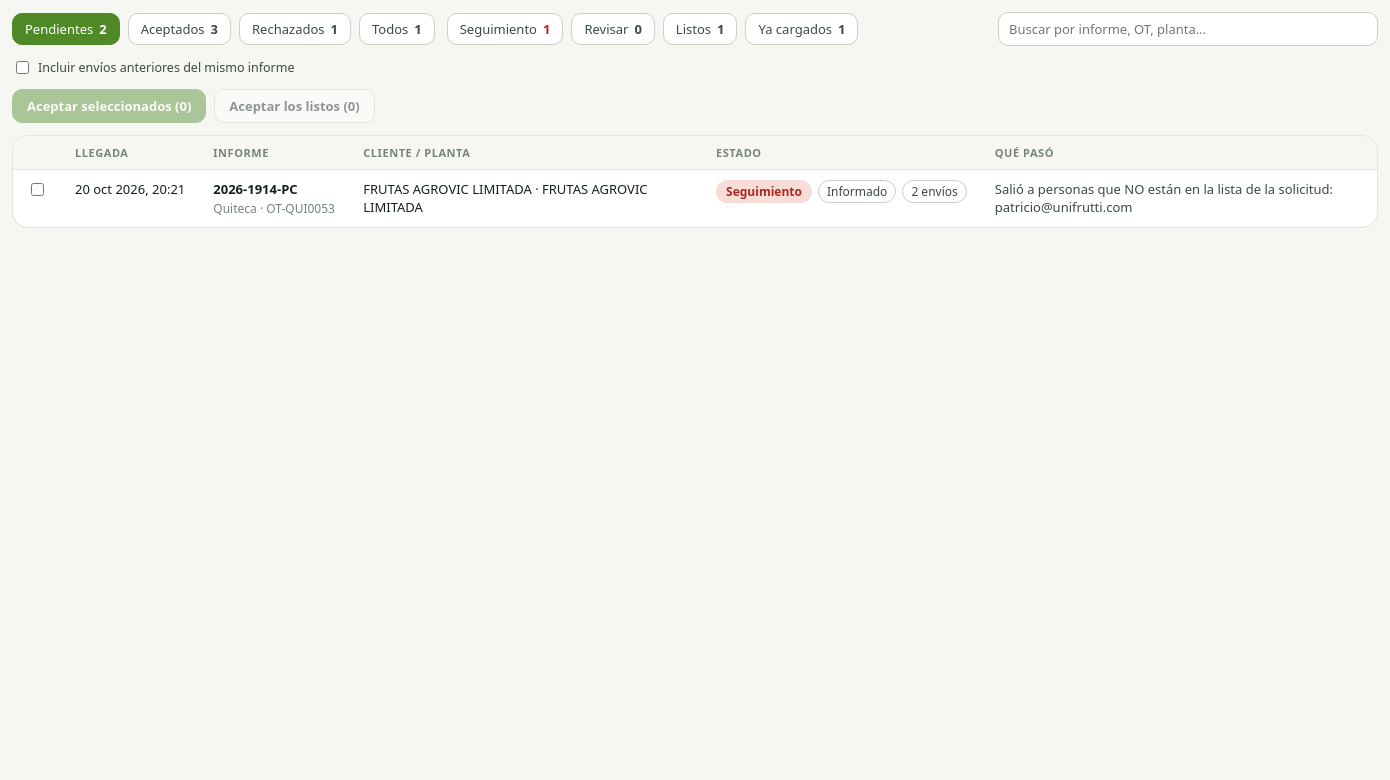
Test case: BandejaCorreo › un informe ya informado lo dice y no vuelve a pedir el aviso
Expected: the text "Informado" is shown, left=818, top=180, right=896, bottom=203
What coordinates should you click on to do the following:
click the text "Quiteca · OT-QUI0053"
I would click on:
 (274, 208)
Its box is left=213, top=200, right=335, bottom=217.
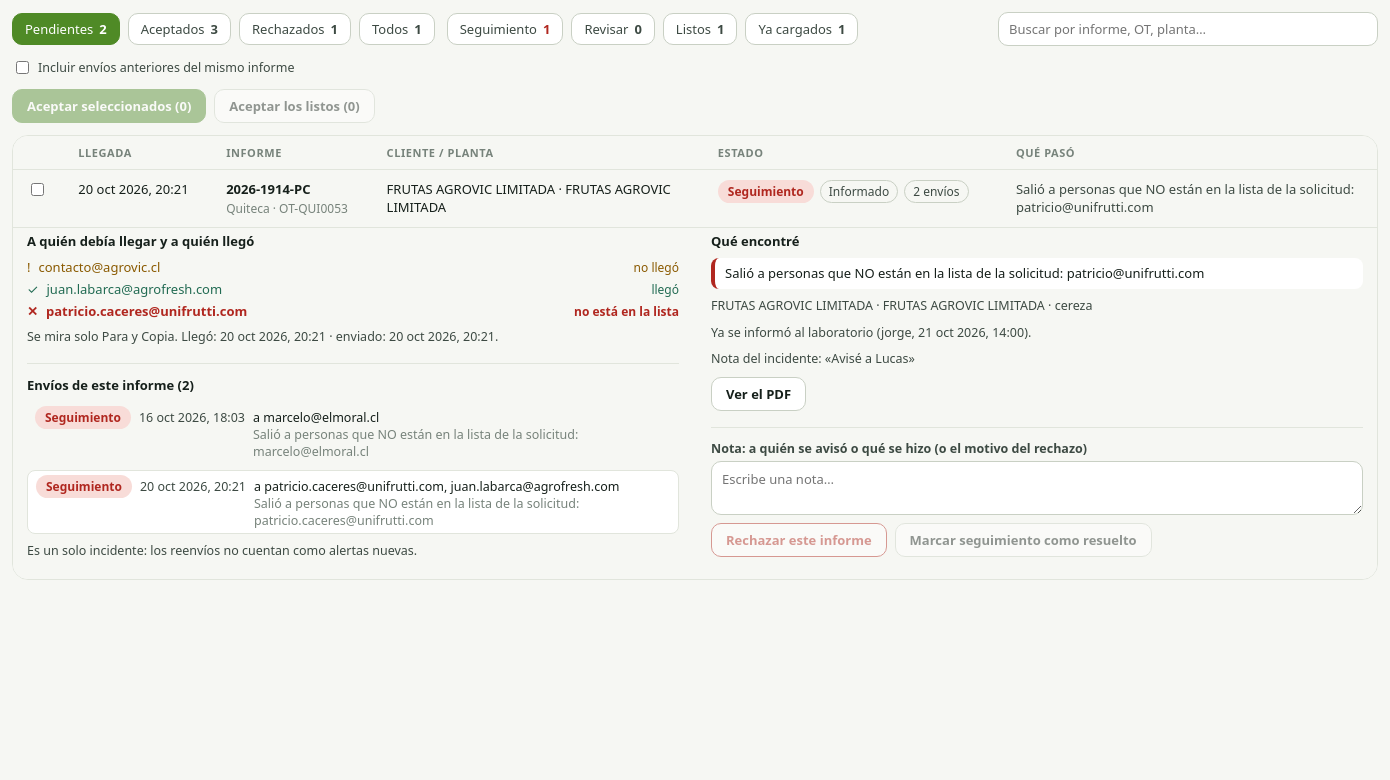
Expected: the text "Ya se informó al laboratorio (jorge, 21 oct 2026, 14:00)." is shown, left=711, top=324, right=1031, bottom=341
Expected: the text "Nota del incidente: «Avisé a Lucas»" is shown, left=711, top=350, right=915, bottom=367
